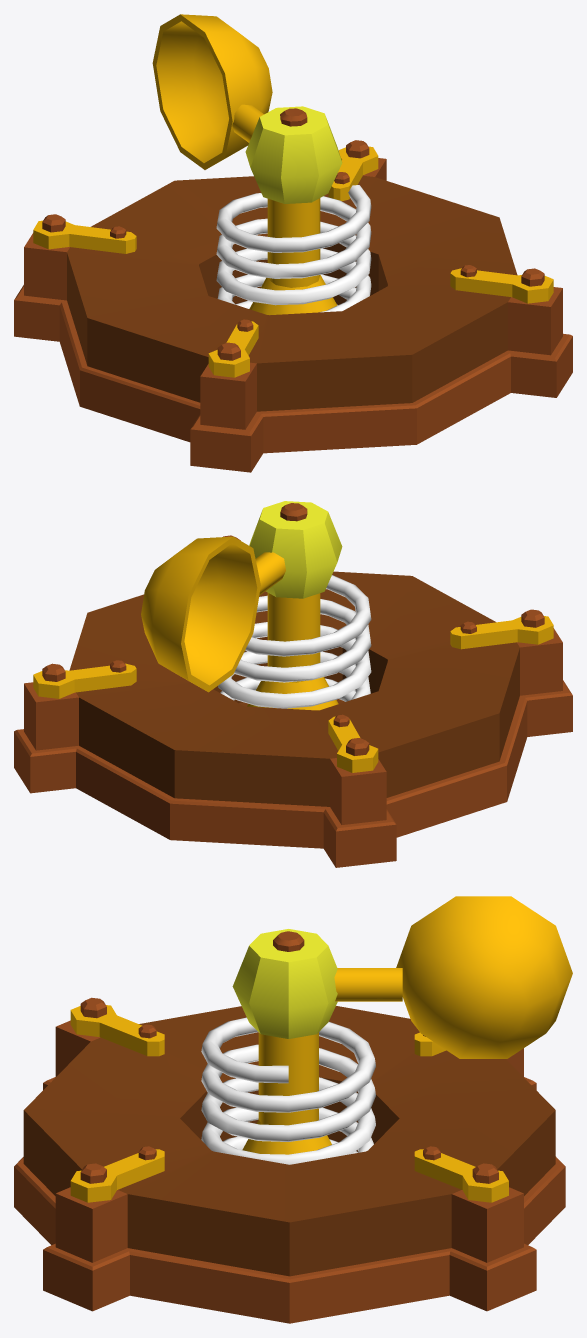
The model's file is island8.defense1.fbx.
3 views of the same model, one above another, from view 1: azimuth 30°, elevation 25°; view 2: azimuth 150°, elevation 25°; view 3: azimuth 270°, elevation 25° (orthographic). The views are drawn at different scales.
Visible parts, largest first — view 1: island8-defense1, island8-defense1.02, island8-defense1.01; view 2: island8-defense1, island8-defense1.02, island8-defense1.01; view 3: island8-defense1, island8-defense1.02, island8-defense1.01.
Boxes of the visible parts, x1,y1,x2,y2 form: island8-defense1: (14, 140, 572, 472); island8-defense1.02: (152, 14, 342, 315); island8-defense1.01: (216, 185, 371, 312); island8-defense1: (14, 535, 572, 867); island8-defense1.02: (141, 501, 342, 710); island8-defense1.01: (218, 575, 371, 708); island8-defense1: (14, 997, 565, 1323); island8-defense1.02: (232, 896, 572, 1154); island8-defense1.01: (201, 1017, 375, 1164).
Size of the model in its own units: 4.21 by 2.55 by 4.27.
1 material, 1 textured.
